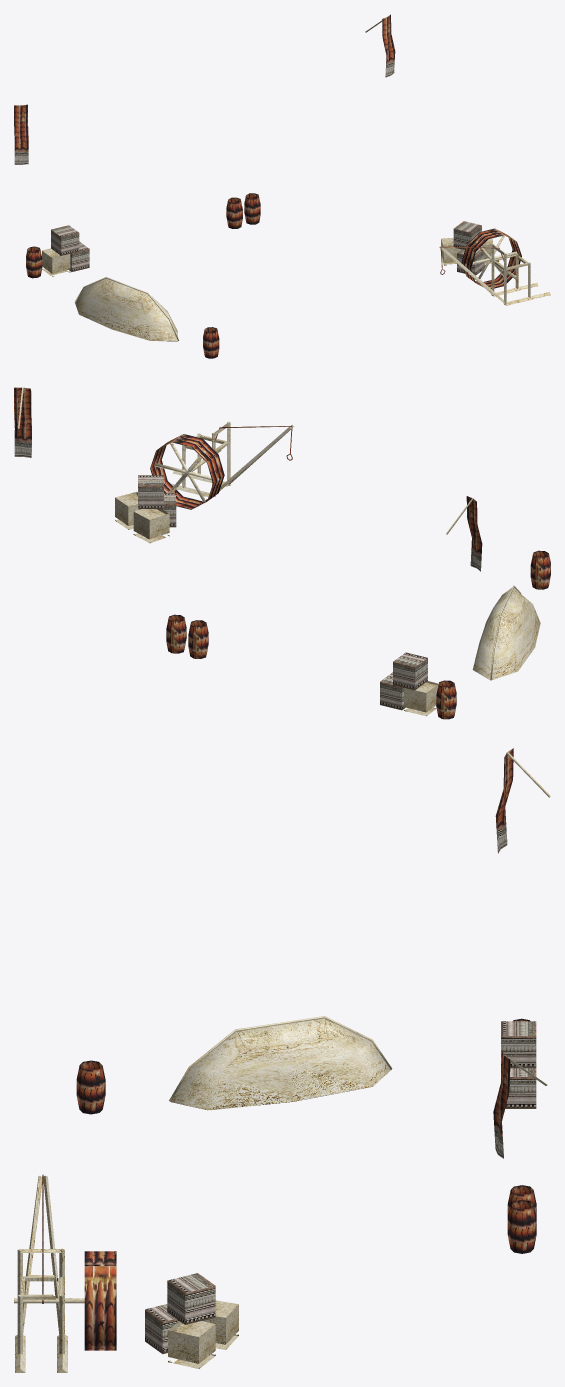
The model's file is rome_dock_1.dae.
The picture shows the model from 3 angles, top to bottom: view 1: azimuth 30°, elevation 25°; view 2: azimuth 150°, elevation 25°; view 3: azimuth 270°, elevation 25°; orthographic projection. The views are drawn at different scales.
Visible parts, largest first — view 1: Line05; view 2: Line05; view 3: Line05.
Part boxes in pixels (box(x1,y1,x2,y2)): Line05: box(14, 14, 550, 358); Line05: box(14, 387, 550, 719); Line05: box(14, 748, 550, 1372).
Bounding box in the file's own units: 19.01 × 13.28 × 8.23.
